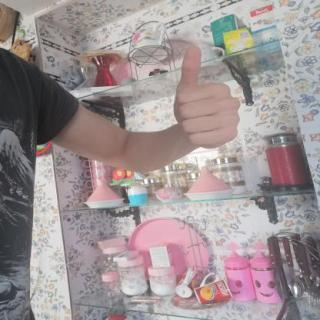ALIF: (159, 37, 250, 155)
